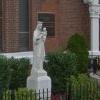Statue: (19, 14, 63, 96)
